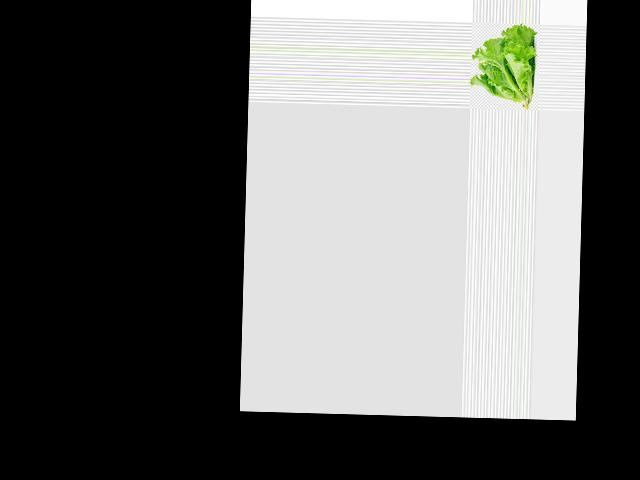lettuce: (470, 23, 534, 110)
